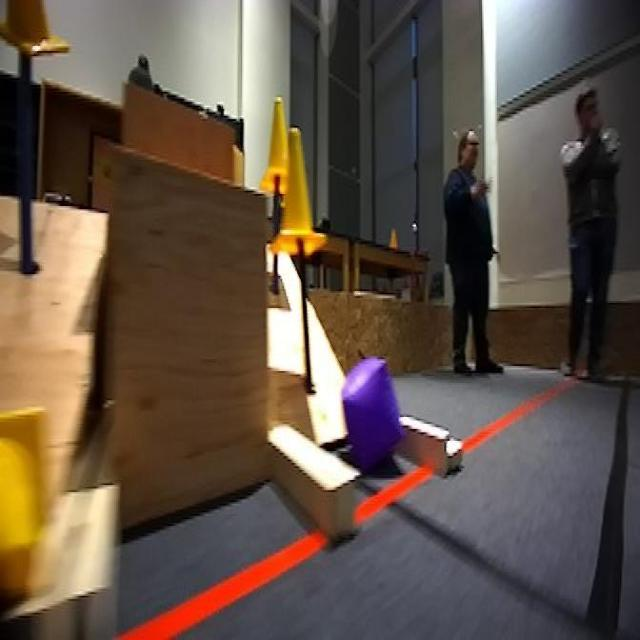frc_cone: (0, 403, 51, 604), (271, 133, 321, 264), (2, 0, 74, 68), (265, 89, 290, 192)
frc_cube: (341, 359, 409, 470)
